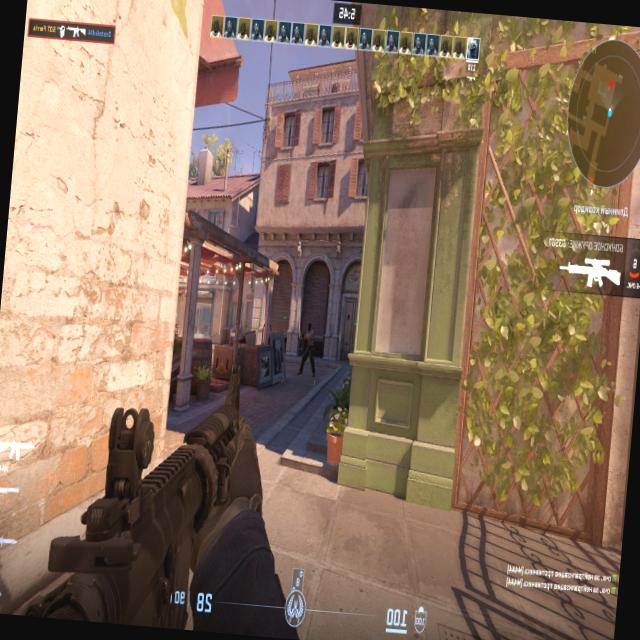T: (302, 321, 315, 372)
T_heat: (308, 326, 310, 336)
